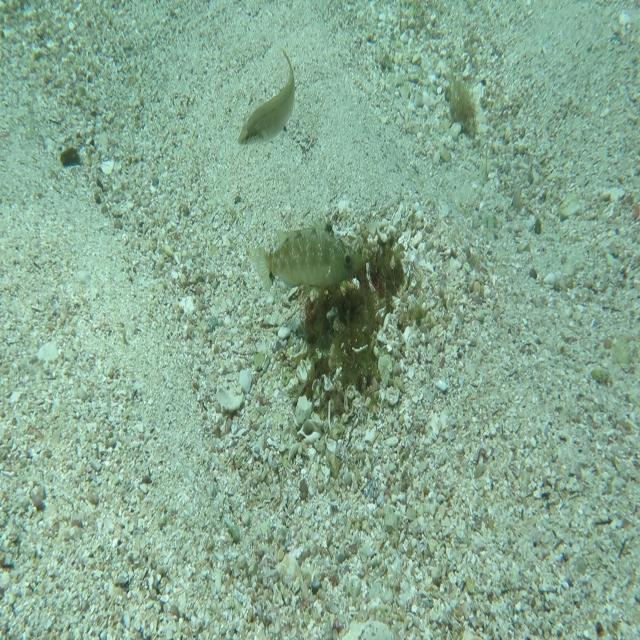FAN: (248, 208, 365, 294)
core_nest: (350, 252, 390, 291)
female: (237, 47, 296, 147)
nest: (287, 214, 416, 427)
vegetation: (443, 69, 477, 140), (59, 143, 81, 168)
